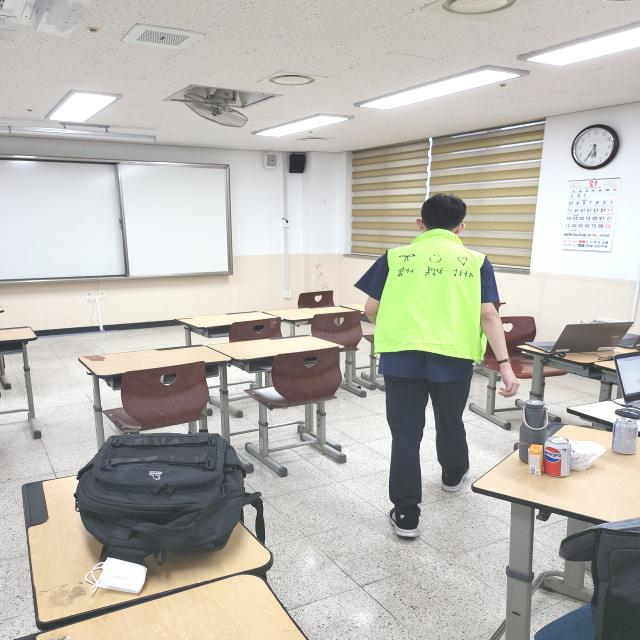weston_spy: (359, 219, 502, 372)
